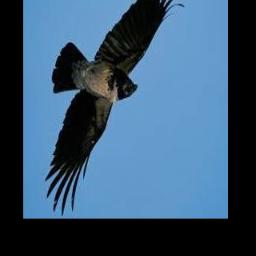Crow: (45, 0, 184, 217)
